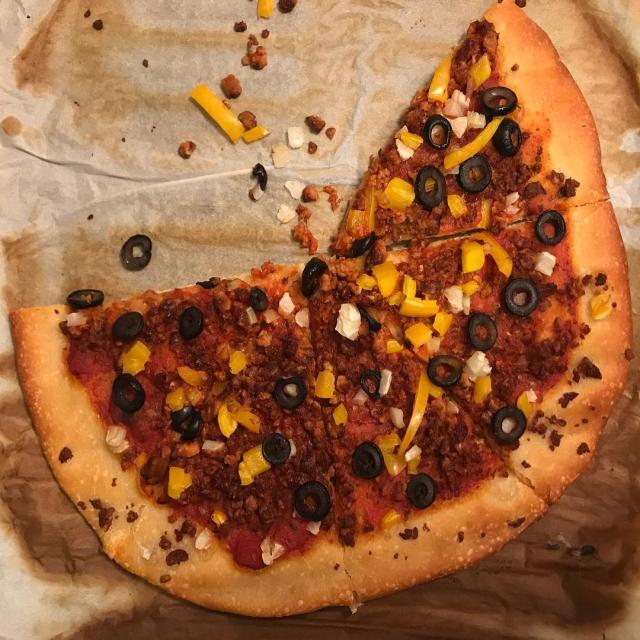black_olives: (414, 163, 448, 216), (476, 78, 523, 115), (295, 476, 329, 524), (351, 436, 384, 485), (462, 309, 499, 352), (405, 468, 439, 514), (502, 271, 538, 314), (533, 207, 569, 250), (493, 118, 529, 161), (493, 402, 528, 446), (111, 366, 143, 410), (118, 233, 154, 269), (170, 401, 206, 437), (427, 352, 463, 388), (262, 429, 294, 469), (457, 157, 491, 194), (274, 374, 308, 410), (173, 302, 204, 341), (111, 308, 140, 339), (301, 254, 320, 297), (427, 114, 448, 150), (66, 288, 100, 306)
peppers: (371, 259, 440, 320), (189, 84, 252, 144), (447, 110, 502, 167), (453, 231, 511, 279), (404, 371, 428, 451), (406, 313, 452, 350), (166, 362, 201, 400), (165, 463, 197, 503), (217, 398, 257, 429), (378, 431, 405, 474), (236, 441, 264, 481), (573, 292, 613, 317), (384, 180, 414, 208), (430, 59, 452, 96), (123, 342, 152, 370), (472, 371, 493, 404), (318, 369, 337, 404), (386, 334, 403, 355)
pizza: (8, 0, 635, 621)
